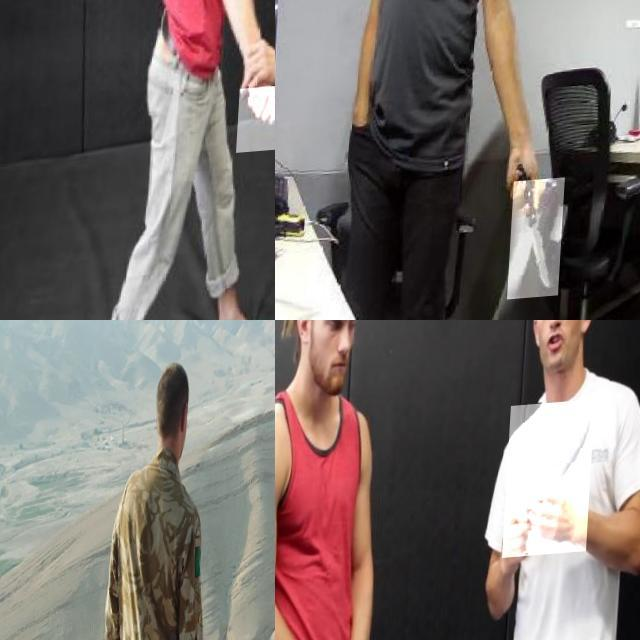-: (507, 408, 598, 566), (514, 183, 570, 304), (241, 88, 275, 157)
